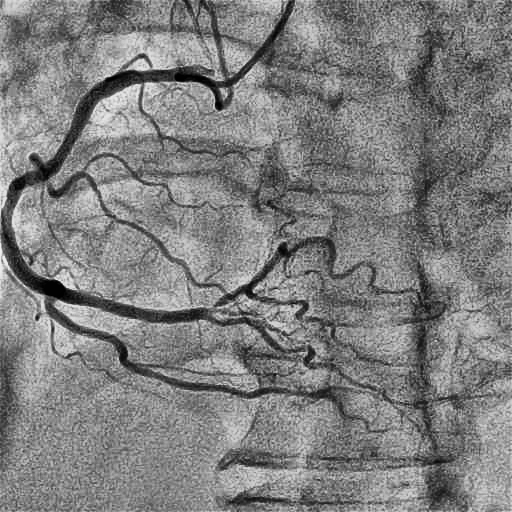pborca: (211, 236, 415, 313)
pda: (208, 317, 378, 390)
rca: (0, 70, 211, 323)
